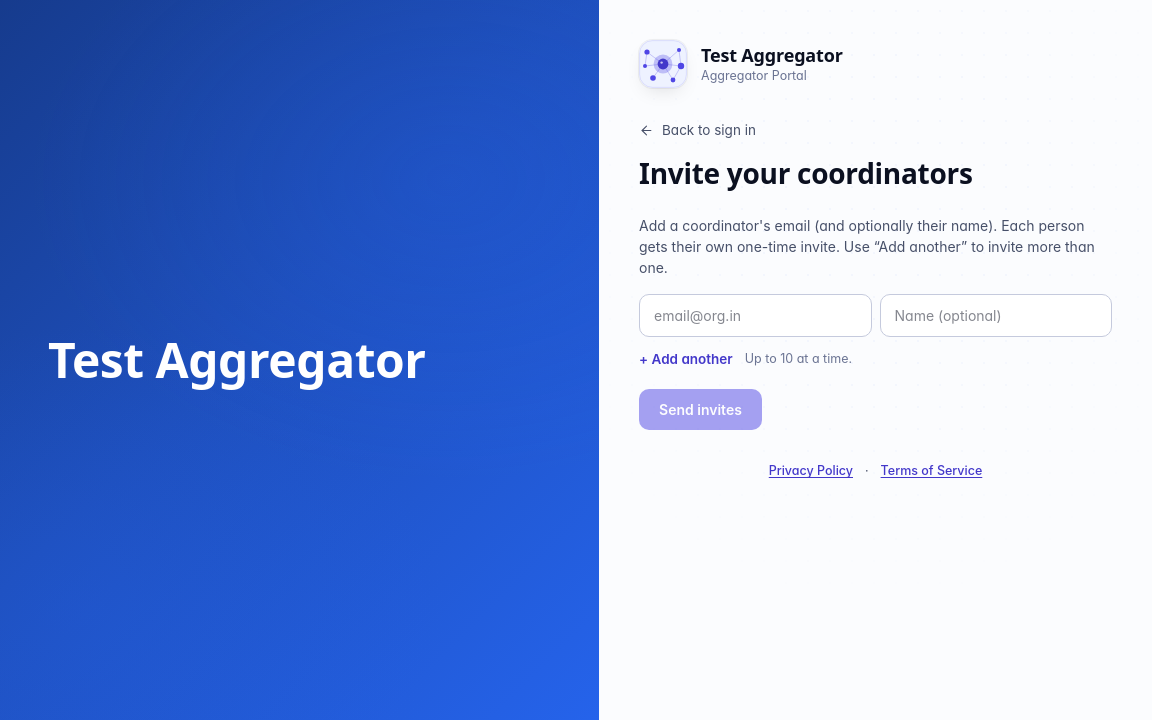
Test case: <OwnerInviteView /> › removes a row with the × control
The image size is (1152, 720).
Step 1. Click the button "+ Add another" → (686, 359), box [639,349,733,369]
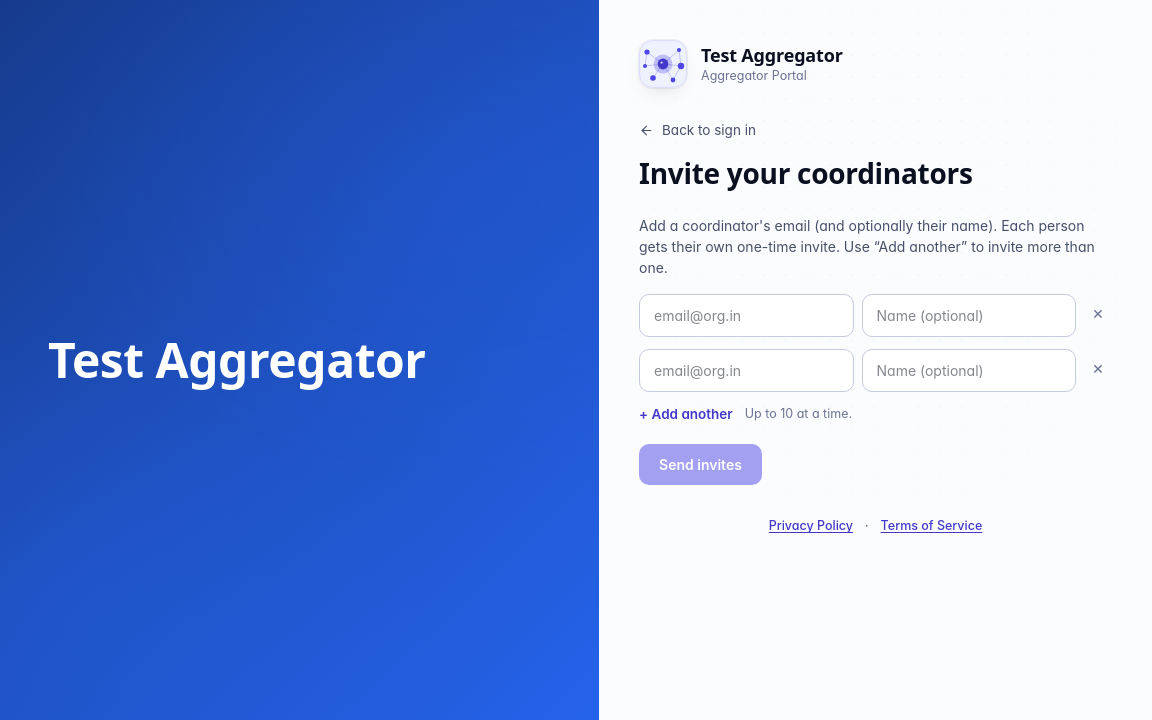
Expected: the number of fields with placeholder "email@org.in" is 2, [639,294,854,337]; [639,349,854,392]
Step 2. Click the button named "remove coordinator 2" → (1098, 368), box [1084,353,1112,383]
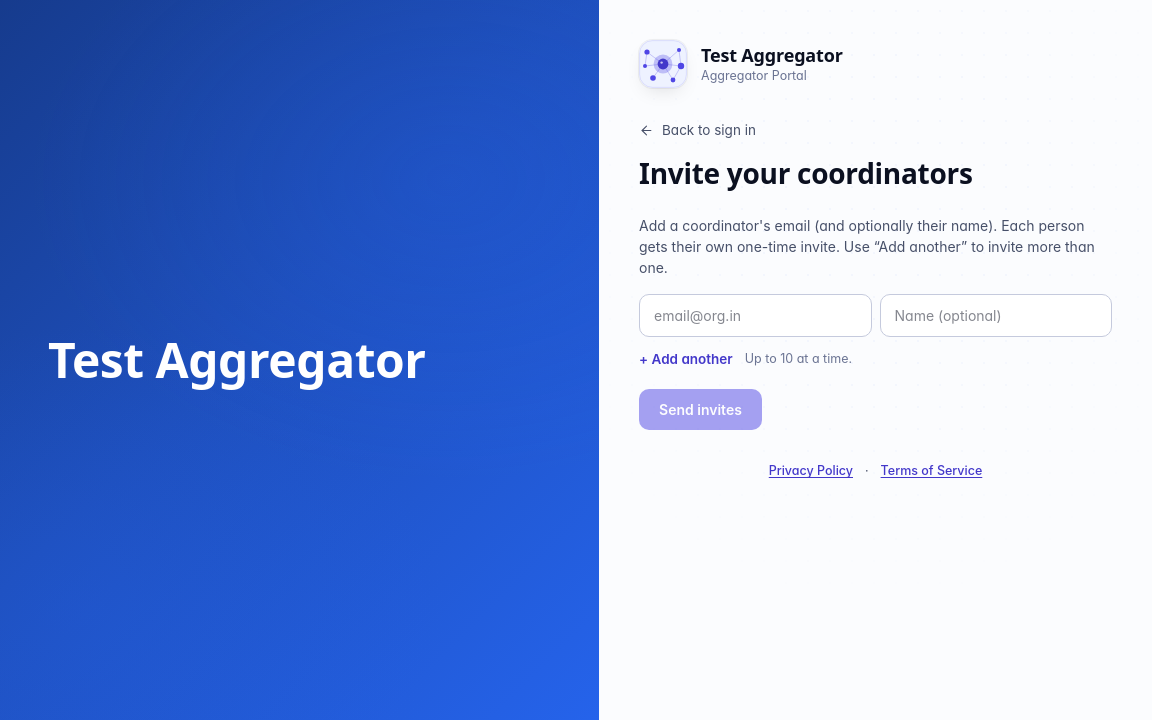
Expected: the number of fields with placeholder "email@org.in" is 1, [639,294,872,337]
